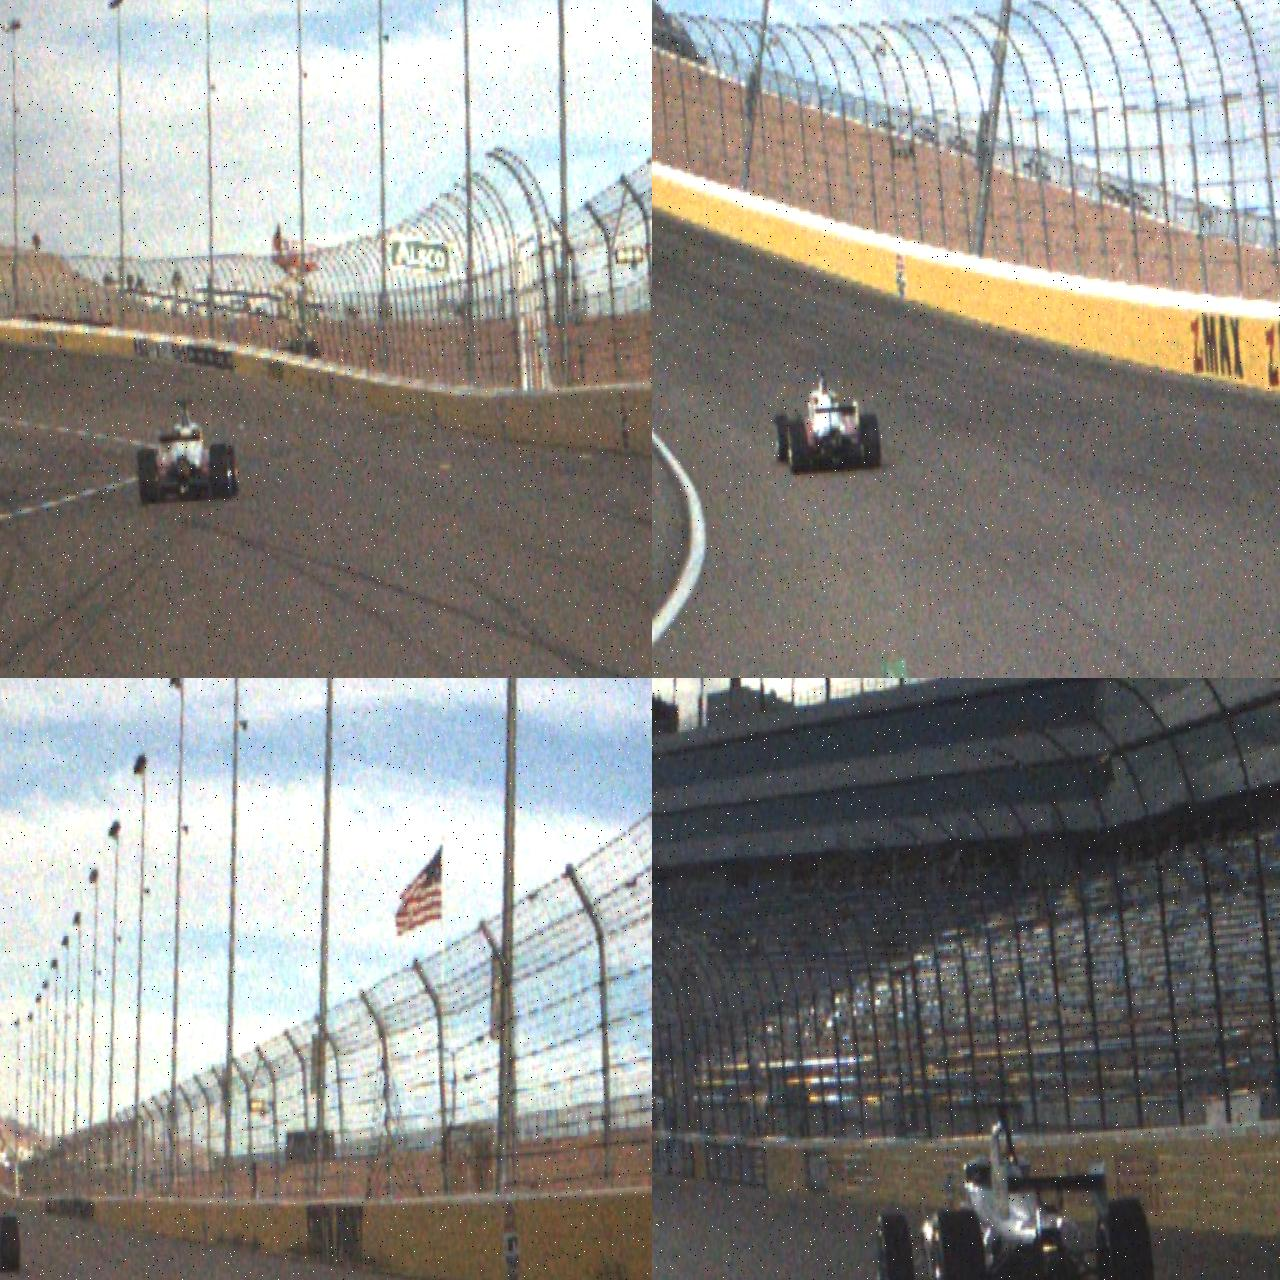AV: (860, 1088, 1161, 1280), (769, 362, 883, 478), (132, 395, 240, 506), (0, 1159, 22, 1280)
Wheel: (1093, 1194, 1160, 1280), (927, 1207, 990, 1280), (874, 1211, 919, 1280), (136, 446, 162, 506), (787, 419, 811, 476), (208, 443, 231, 501), (859, 414, 882, 472), (0, 1215, 22, 1274), (222, 446, 240, 498), (774, 414, 790, 464)
